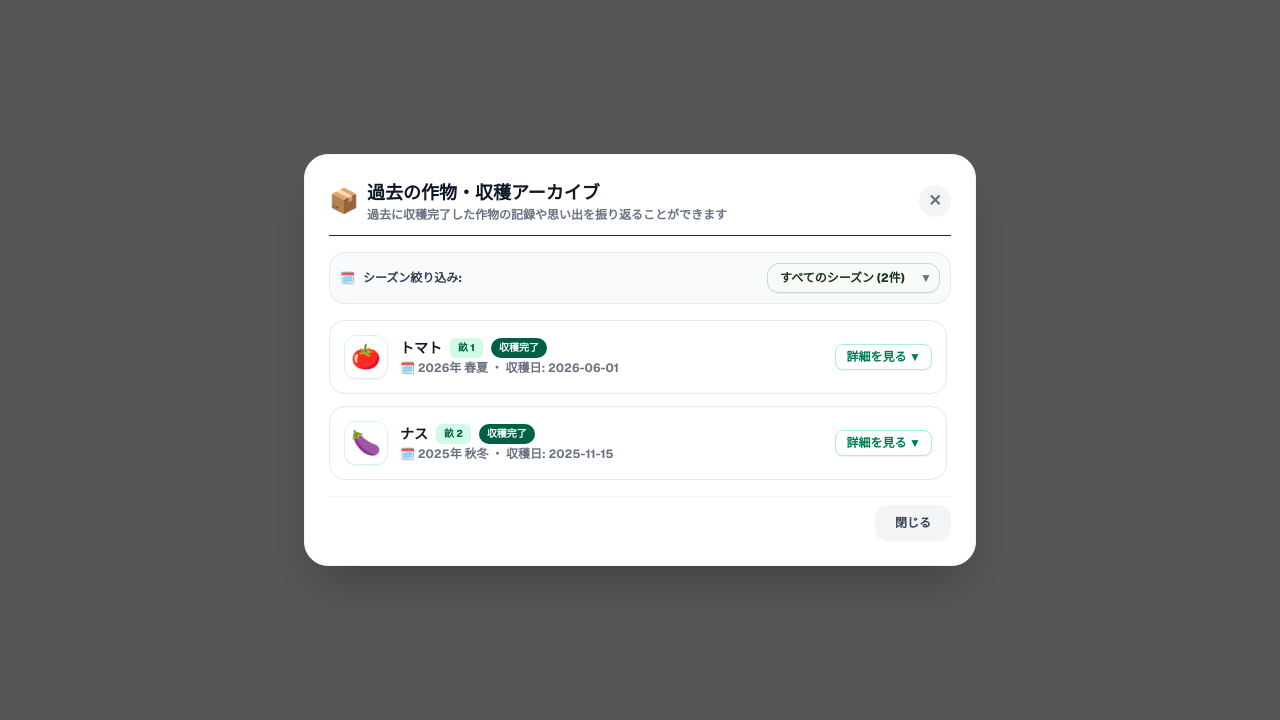
ArchivedCropsModal › filters beds by season dropdown selection
The width and height of the screenshot is (1280, 720).
Select "2026年 春夏 (1件)" in the dropdown at (854, 278), box [767,263,940,293]
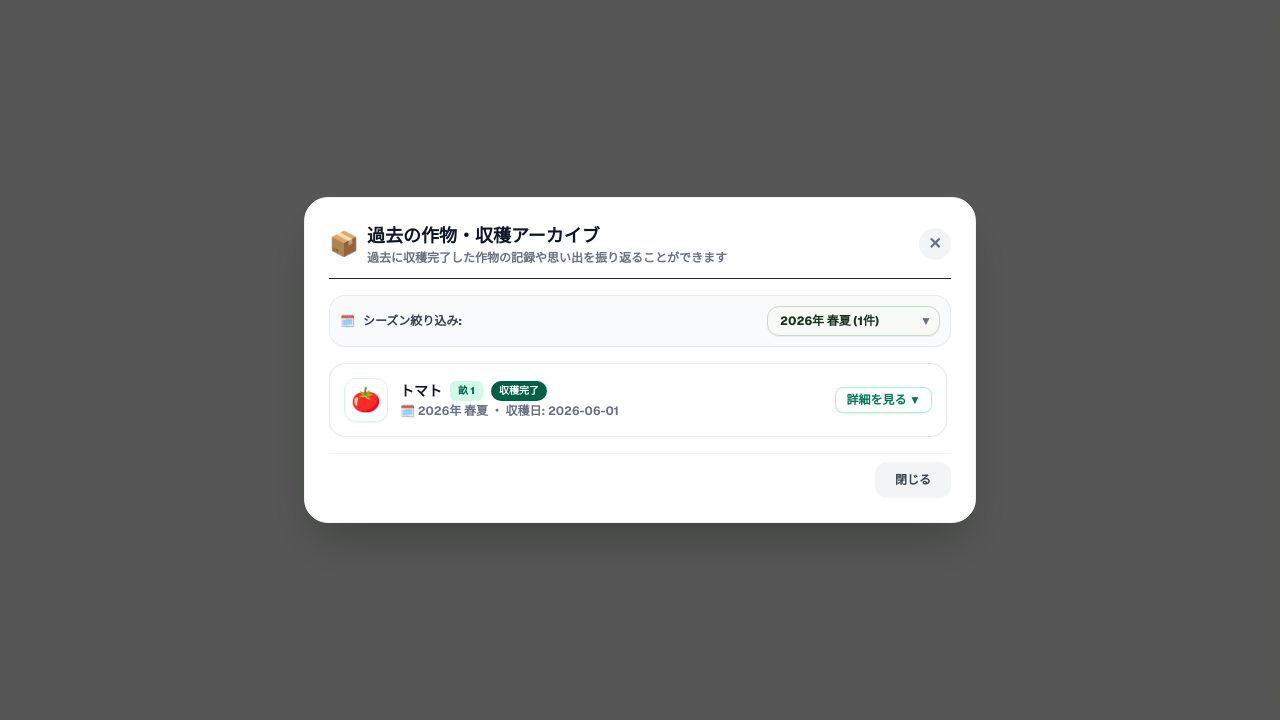
Expected: the text "トマト" is shown, [400,381,442,401]
Expected: the text "ナス" is gone
